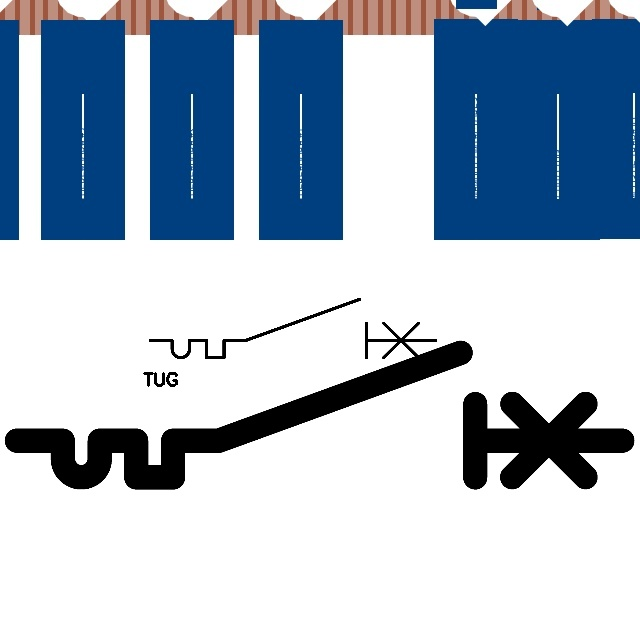interruptor_termomagnetico: (1, 337, 637, 493), (143, 292, 443, 365)
